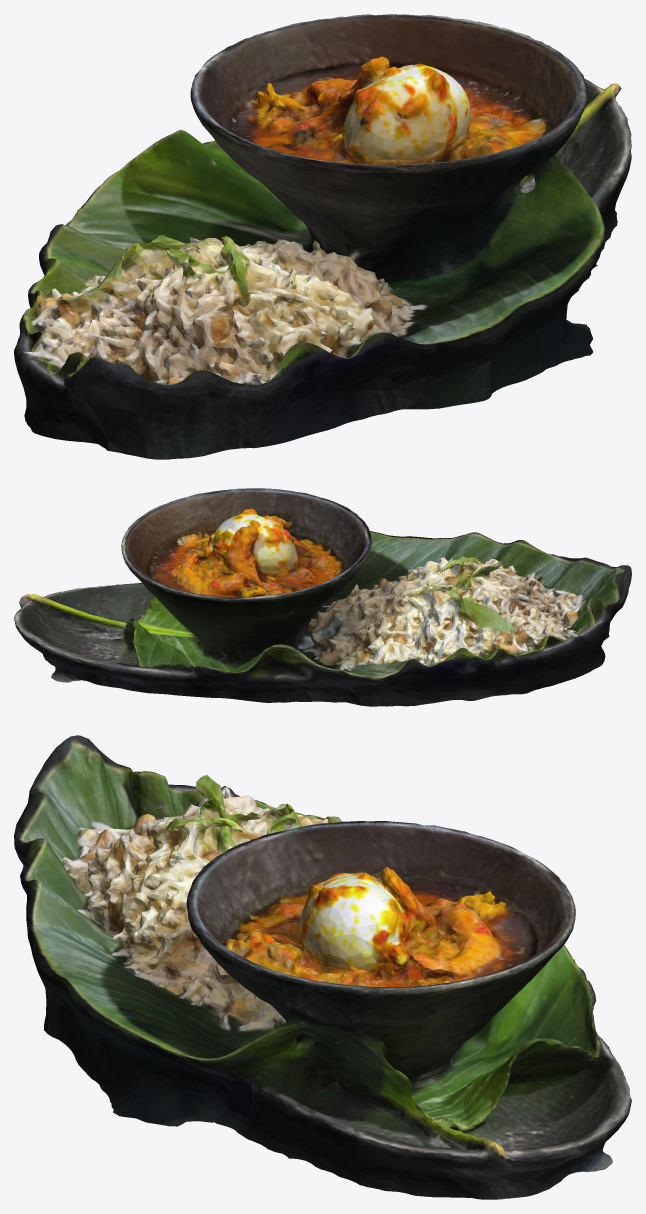
Rendered from rice-beans-designer-stew.glb.
The picture shows the model from 3 angles, top to bottom: view 1: azimuth 30°, elevation 25°; view 2: azimuth 150°, elevation 25°; view 3: azimuth 270°, elevation 25°; orthographic projection. The views are drawn at different scales.
Visible parts, largest first — view 1: Mesh_0.001; view 2: Mesh_0.001; view 3: Mesh_0.001.
Part boxes in pixels (x1=…): Mesh_0.001: x1=14, y1=14, x2=631, y2=459; Mesh_0.001: x1=14, y1=488, x2=631, y2=706; Mesh_0.001: x1=14, y1=735, x2=631, y2=1199.
Size of the model in its own units: 1.1 by 0.2985 by 0.8003.
1 material, 1 textured.
